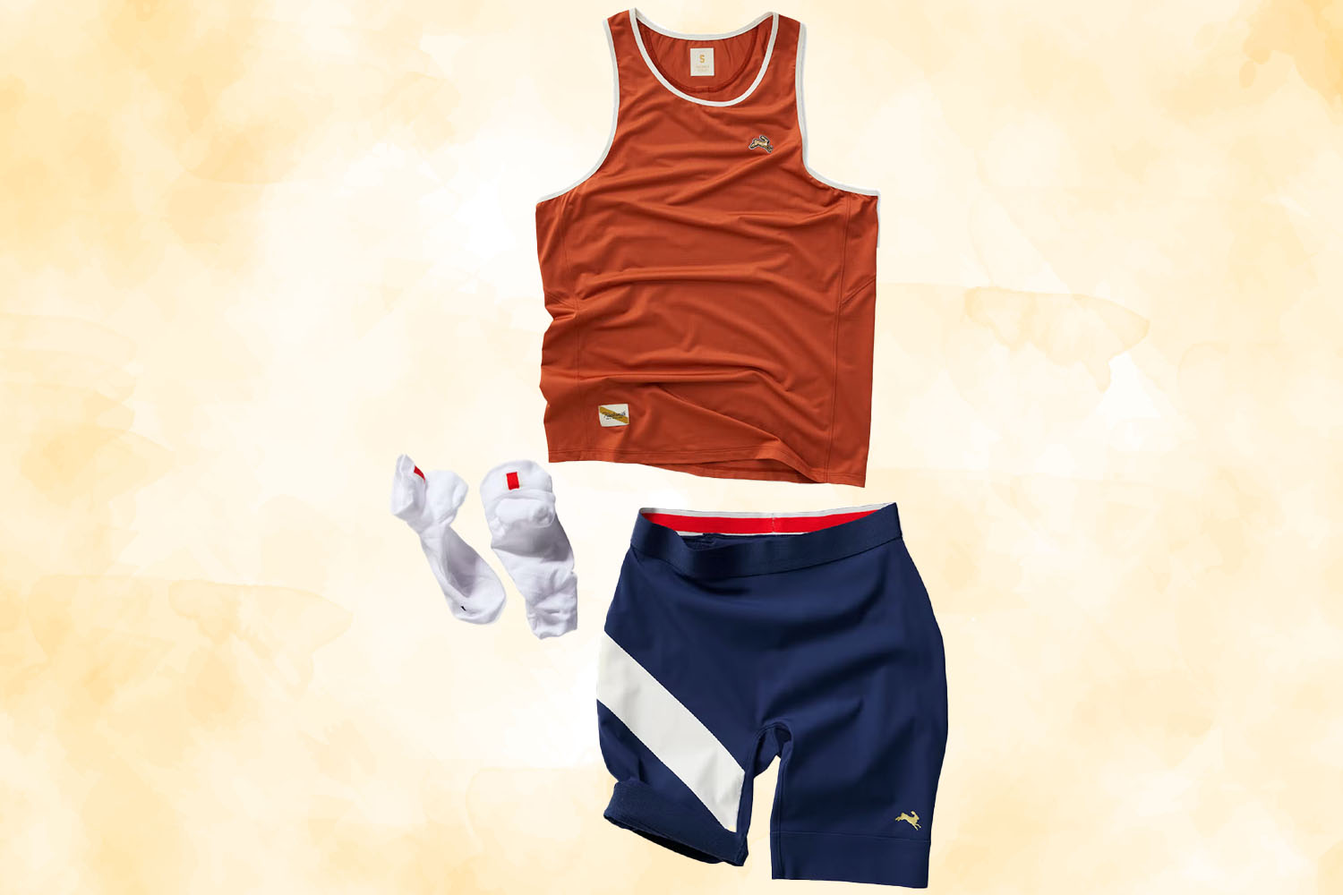egg: (535, 10, 879, 488)
